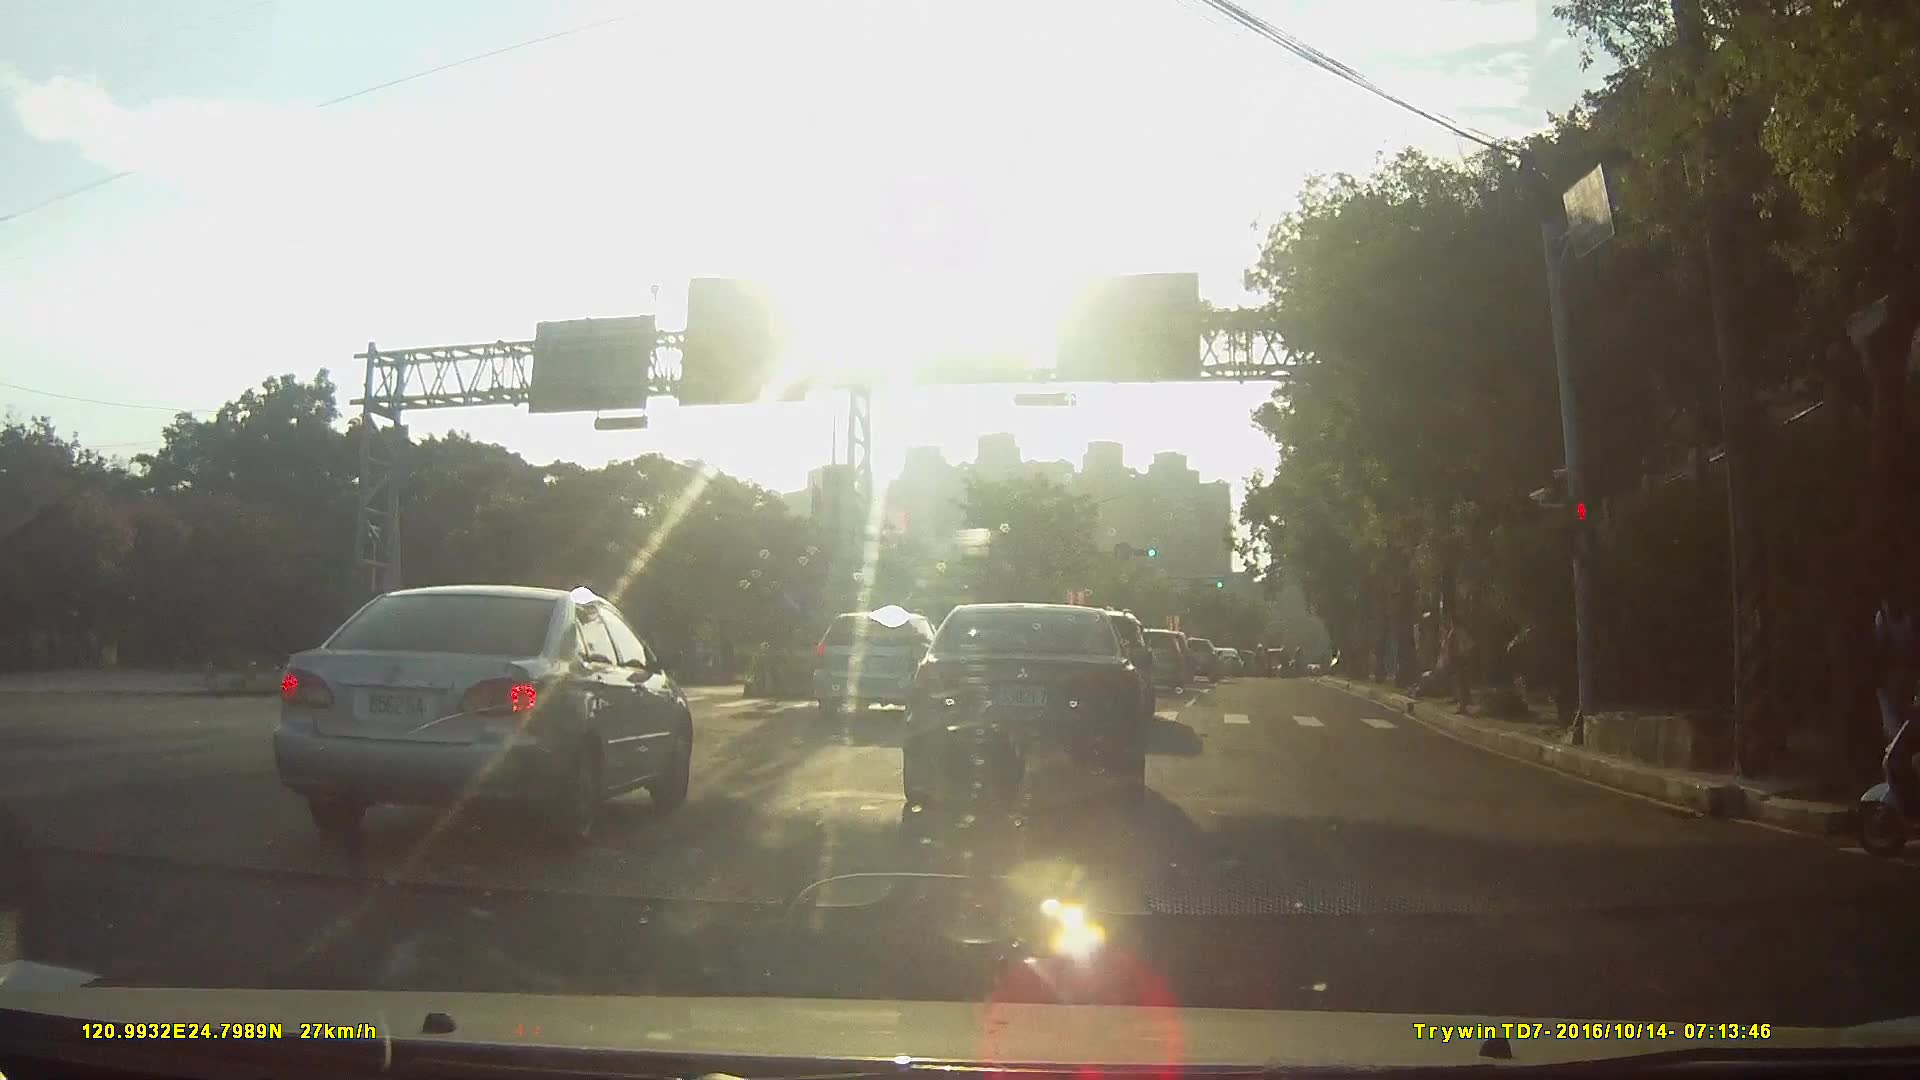pedestrian: (1849, 577, 1914, 756), (1429, 604, 1475, 716)
rider: (1852, 617, 1920, 858)
vehicle: (270, 583, 695, 854), (901, 598, 1154, 803), (811, 610, 952, 720), (1111, 631, 1185, 698), (1172, 638, 1219, 685), (1207, 650, 1244, 678)
